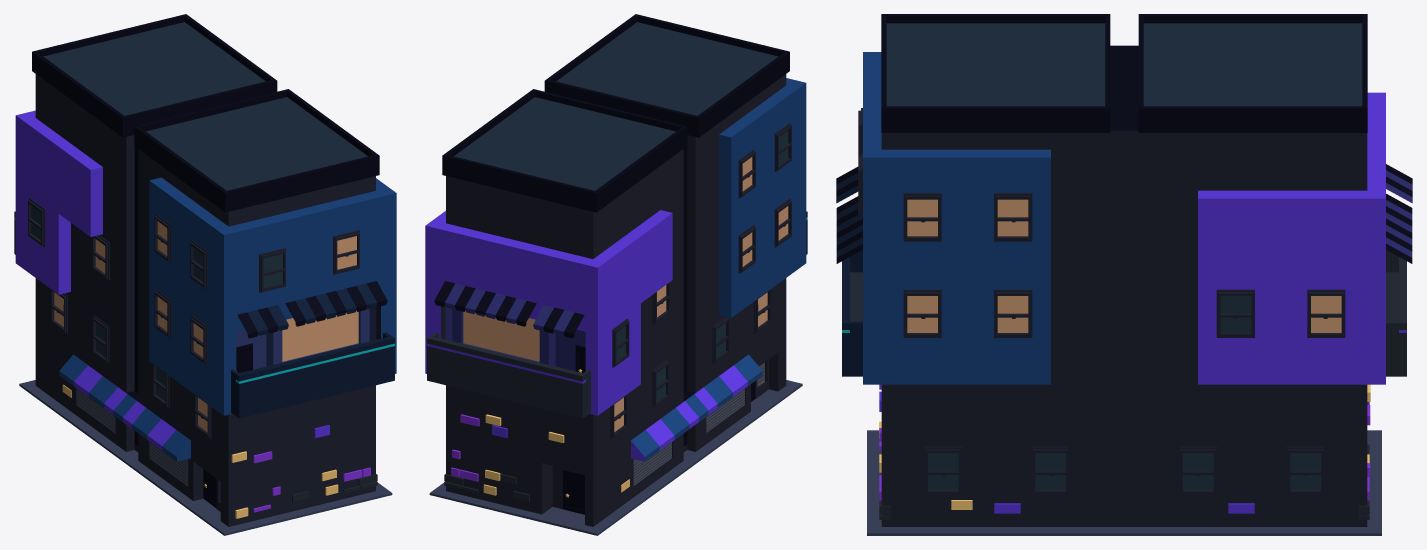
File: Building_ScramblyBox02.fbx
3 renders of one model, left to right at view 1: azimuth 30°, elevation 25°; view 2: azimuth 150°, elevation 25°; view 3: azimuth 270°, elevation 25°, orthographic. The views are drawn at different scales.
Visible parts, largest first — view 1: Cube.750, Cube.754; view 2: Cube.750, Cube.753; view 3: Cube.750.
Boxes of the visible parts, left/top/right/bottom form: Cube.750: left=14, top=14, right=396, bottom=535; Cube.754: left=236, top=343, right=252, bottom=372; Cube.750: left=425, top=14, right=807, bottom=535; Cube.753: left=563, top=470, right=584, bottom=514; Cube.750: left=836, top=14, right=1412, bottom=535.
Bounding box in the file's own units: 671 × 1211 × 1495.
